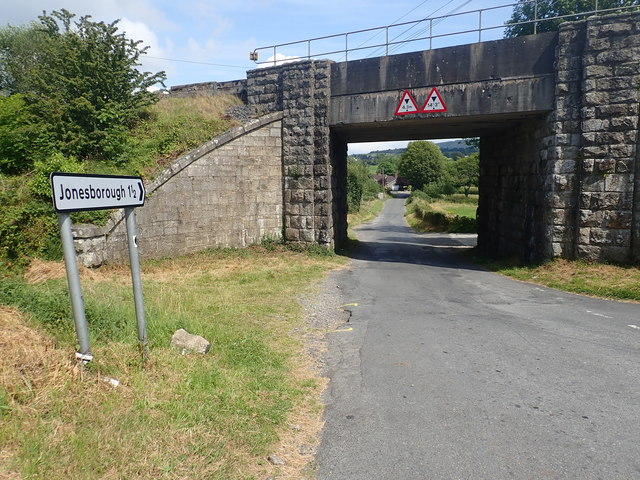bridge: (241, 16, 636, 266)
